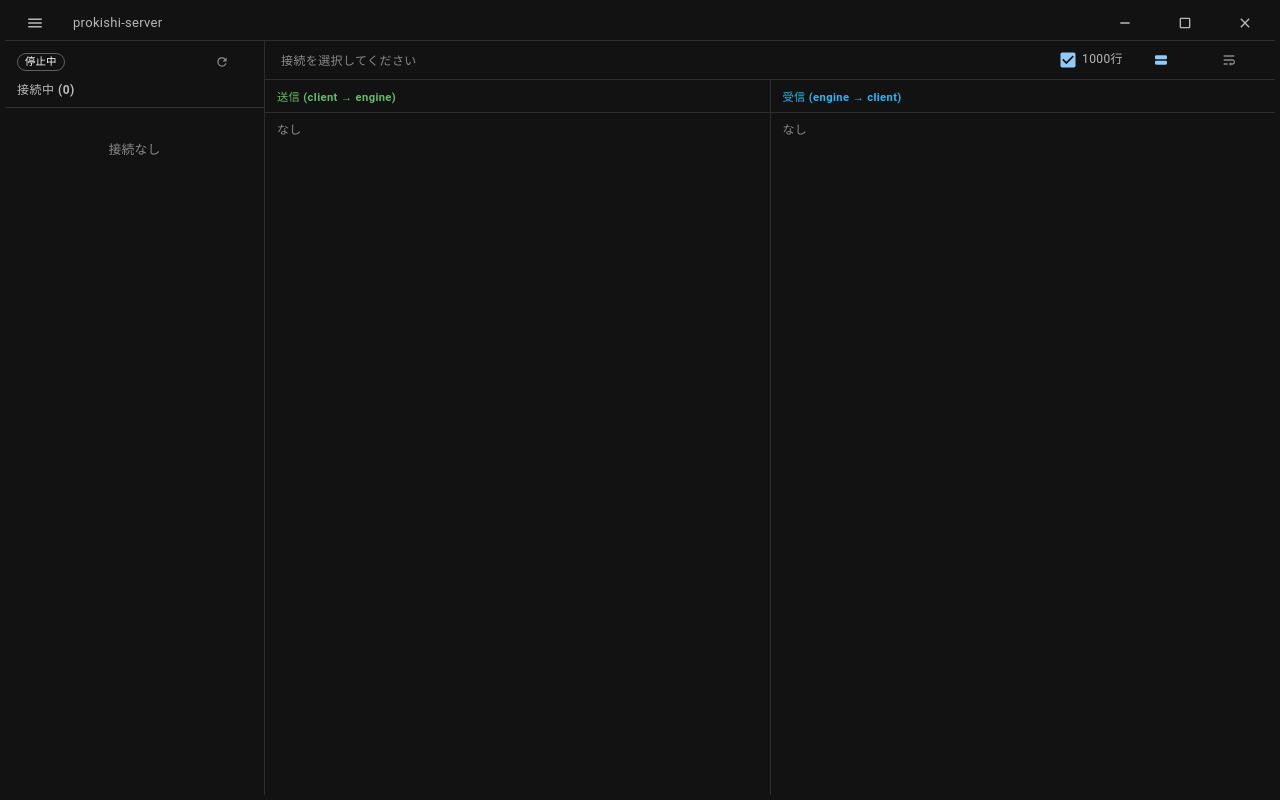
Test: App › shows close confirmation dialog on close button click
The image size is (1280, 800).
Click the button with test id "CloseIcon". click: (1245, 23)
box: [1215,5,1275,41]
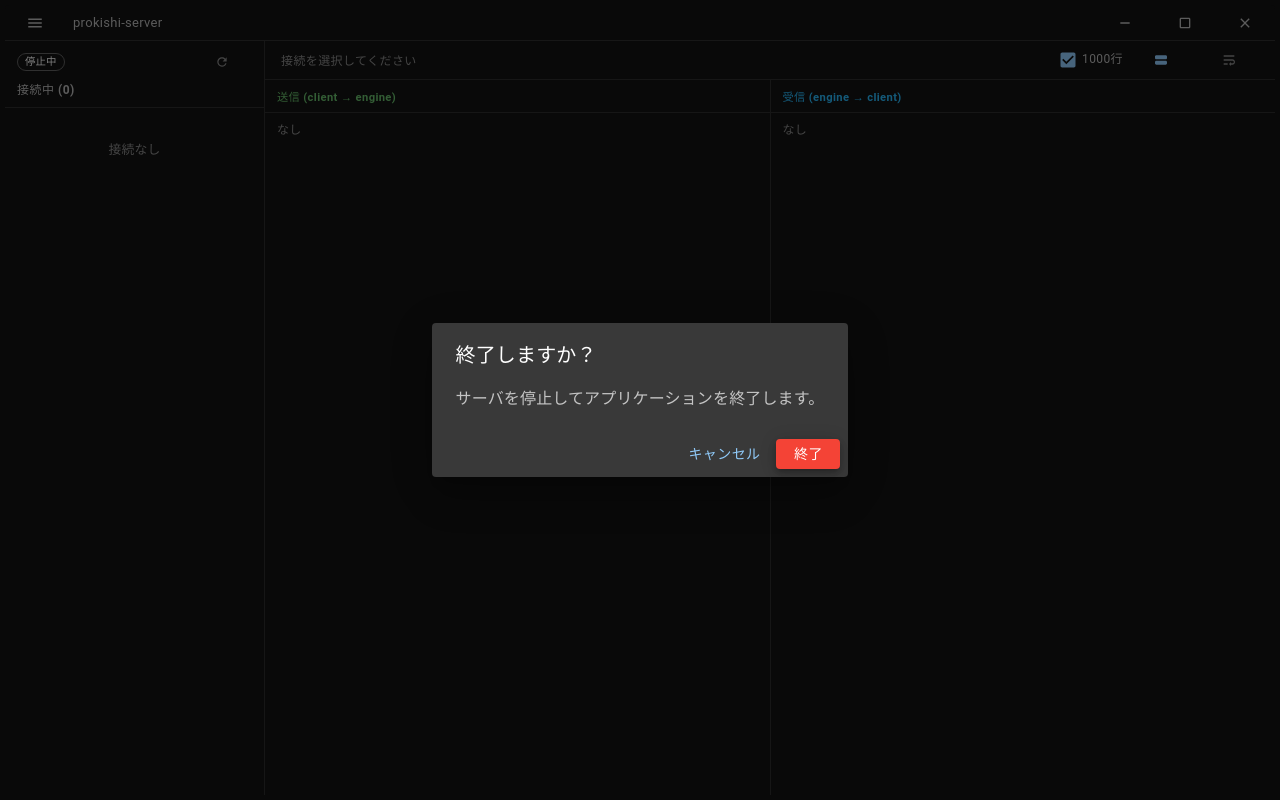
expect the heading "終了しますか？" is shown: met, box [456,343,597,367]
expect the text "サーバを停止してアプリケーションを終了します。" is shown: met, box [456,387,824,411]
